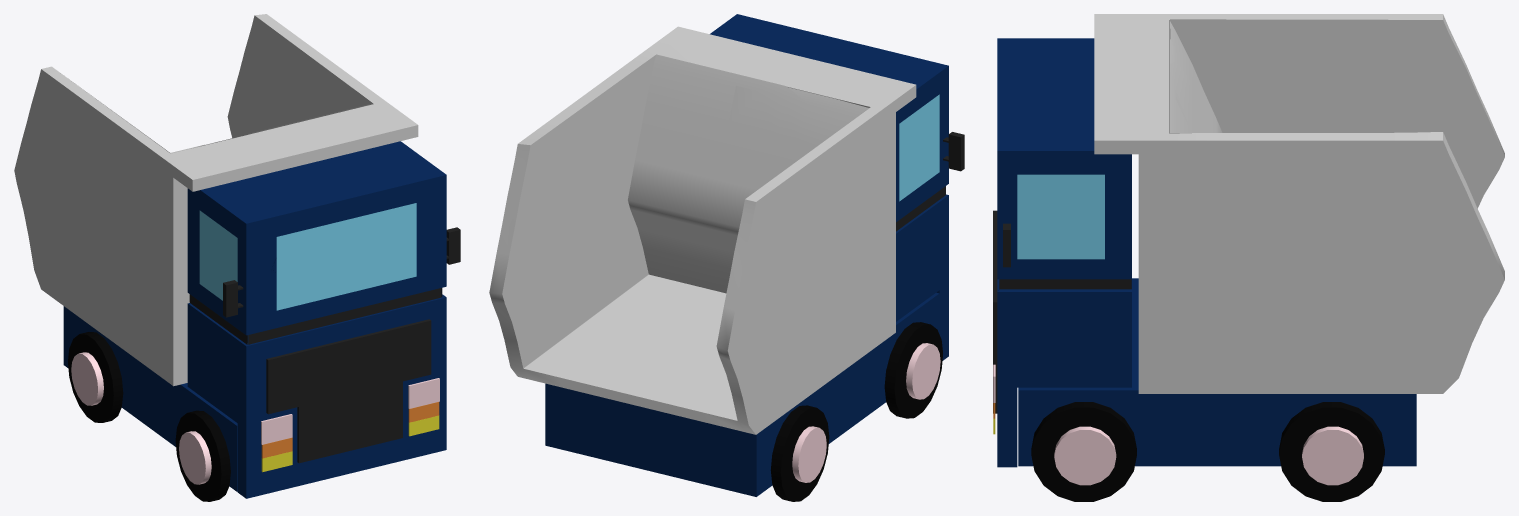
File: CamionVidrio.fbx
3 renders of one model, left to right at view 1: azimuth 30°, elevation 25°; view 2: azimuth 150°, elevation 25°; view 3: azimuth 270°, elevation 25°, orthographic. The views are drawn at different scales.
Visible parts, largest first — view 1: Box003, Box001, Box010, Box009, Box002, Cylinder003, Cylinder001, Box008, Cylinder002, Cylinder004, Box011, Box016 (+3 smaller); view 2: Box003, Box002, Box001, Box009, Cylinder001, Cylinder003, Cylinder004, Cylinder002, Box017; view 3: Box003, Box001, Box002, Box009, Cylinder007, Cylinder005, Cylinder006, Cylinder008, Box005, Box010.
Part boxes in pixels (box(x1,y1,x2,y2)): Box003: box(14, 14, 418, 386); Box001: box(187, 141, 446, 498); Box010: box(266, 319, 431, 463); Box009: box(199, 203, 416, 310); Box002: box(63, 306, 237, 491); Cylinder003: box(175, 410, 230, 501); Cylinder001: box(68, 332, 123, 422); Box008: box(248, 288, 440, 344); Cylinder002: box(71, 352, 103, 405); Cylinder004: box(179, 431, 211, 484); Box011: box(261, 414, 292, 444); Box016: box(408, 378, 439, 408); Box003: box(489, 26, 916, 434); Box002: box(545, 292, 939, 496); Box001: box(710, 14, 948, 360); Box009: box(899, 94, 939, 201); Cylinder001: box(770, 405, 829, 501); Cylinder003: box(884, 322, 942, 418); Cylinder004: box(906, 343, 940, 399); Cylinder002: box(792, 426, 826, 482); Box017: box(943, 132, 964, 171); Box003: box(1094, 14, 1504, 393); Box001: box(997, 38, 1131, 467); Box002: box(1018, 278, 1416, 466); Box009: box(1017, 174, 1104, 259); Cylinder007: box(1031, 402, 1136, 501); Cylinder005: box(1279, 402, 1384, 501); Cylinder006: box(1302, 426, 1363, 485); Cylinder008: box(1054, 426, 1116, 485); Box005: box(999, 279, 1131, 289); Box010: box(993, 210, 997, 413).
Size of the model in its own units: 642 by 830 by 1054.
